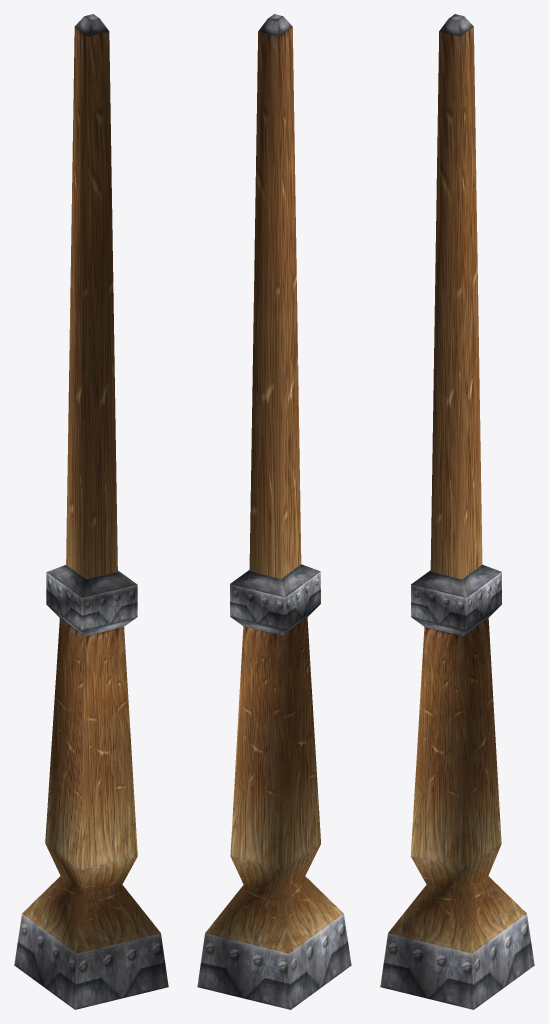
File: flagpole01.obj
The picture shows the model from 3 angles, left to right: view 1: azimuth 30°, elevation 25°; view 2: azimuth 150°, elevation 25°; view 3: azimuth 330°, elevation 25°; orthographic projection.
Visible parts, largest first — view 1: FLAGPOLE010; view 2: FLAGPOLE010; view 3: FLAGPOLE010.
Part boxes in pixels (box(x1,y1,x2,y2)): FLAGPOLE010: box(14, 14, 168, 1009); FLAGPOLE010: box(197, 14, 351, 1009); FLAGPOLE010: box(380, 14, 534, 1009).
Bounding box in the file's own units: 1.02 × 9.99 × 1.15.
1 material, 1 textured.
